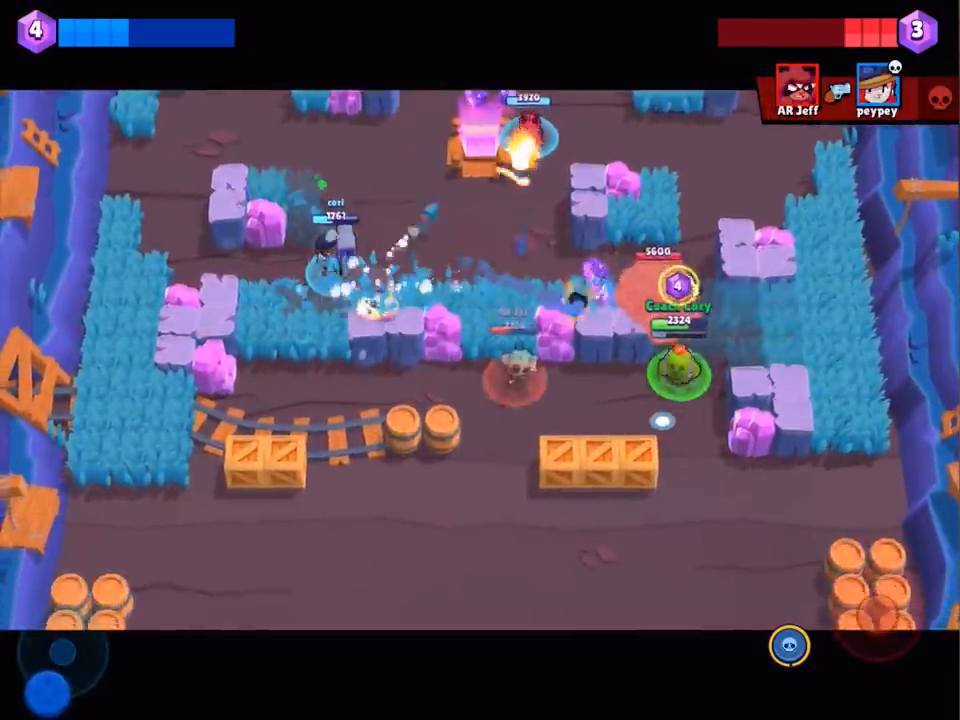move_stick: (23, 671, 81, 713)
red: (482, 317, 541, 411), (632, 241, 684, 319)
